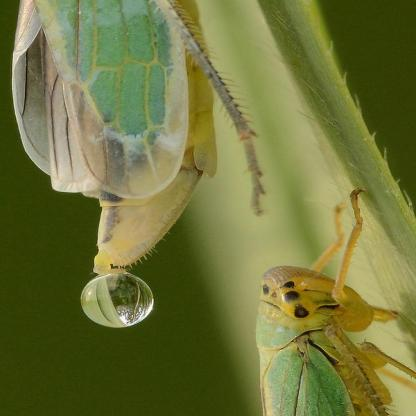Green-Leafhopper: (7, 2, 277, 275), (241, 189, 416, 416)
